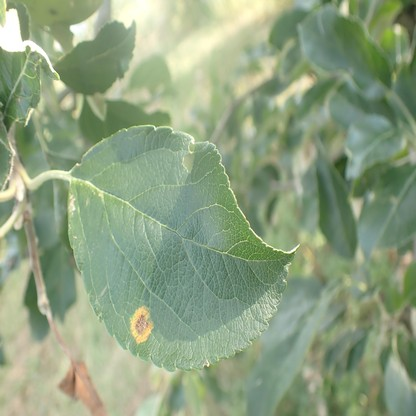rust: (131, 307, 152, 342)
